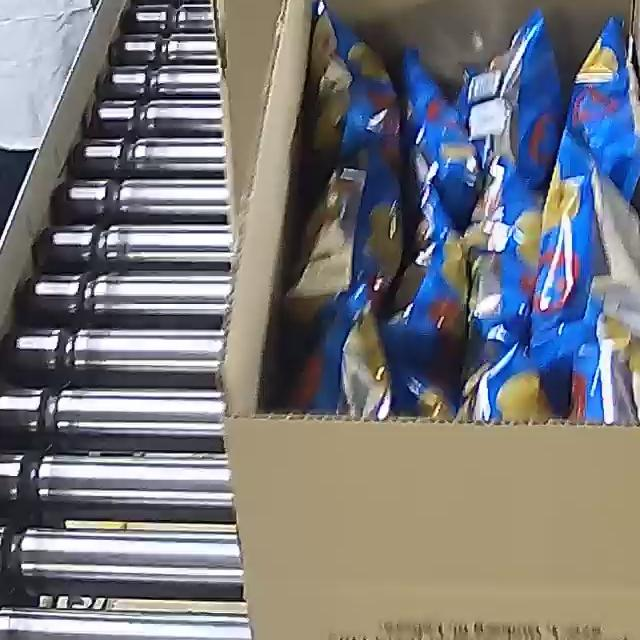paprika: (281, 0, 640, 424)
